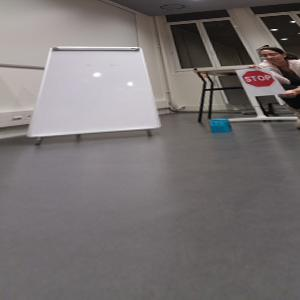stop: (242, 70, 274, 88)
